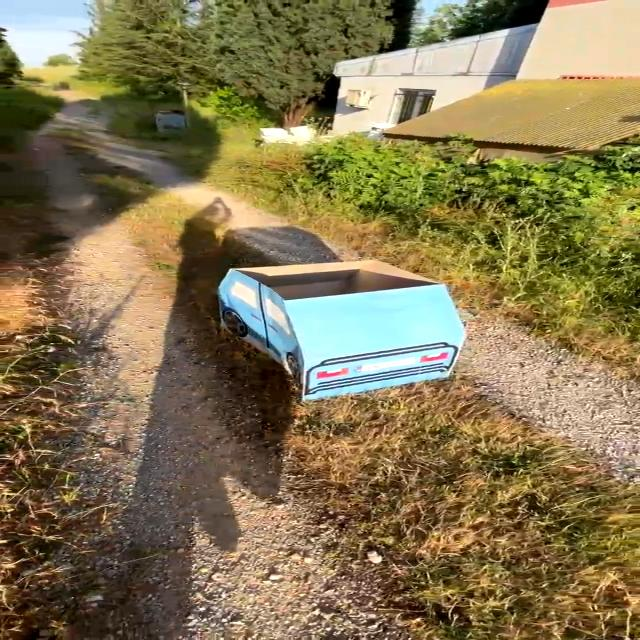blue_car: (154, 242, 574, 416)
